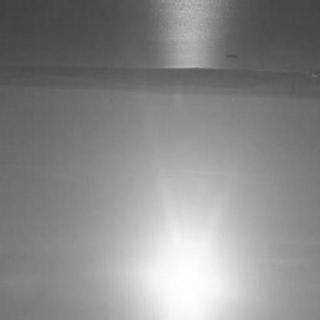other: (139, 204, 243, 320)
